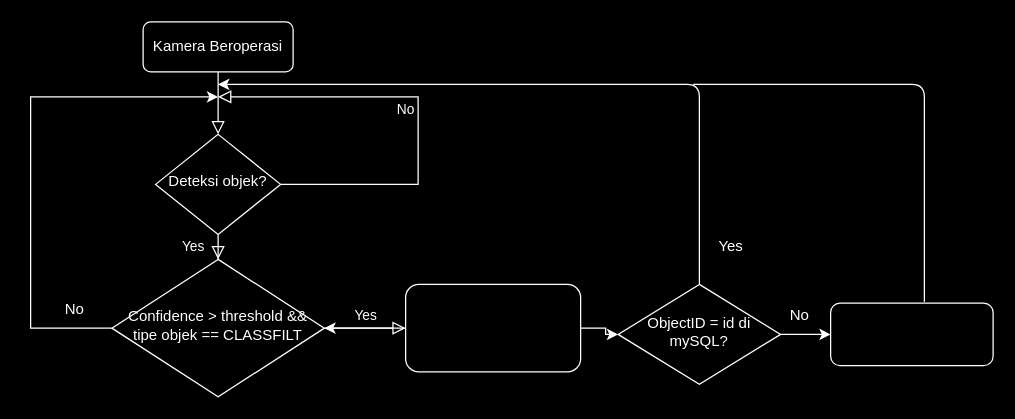
This 1015x419 diagram has some shape labels left out. Here are the shapes that lost their labels. From the top down, the box of each, then its label:
(404, 283, 581, 372): Kotak, tipe objek, dan centroid muncul di frame, dan frame disimpan ke device
(829, 302, 993, 366): Memasukkan id, tipe objek, dan file_foto pada mySQL
